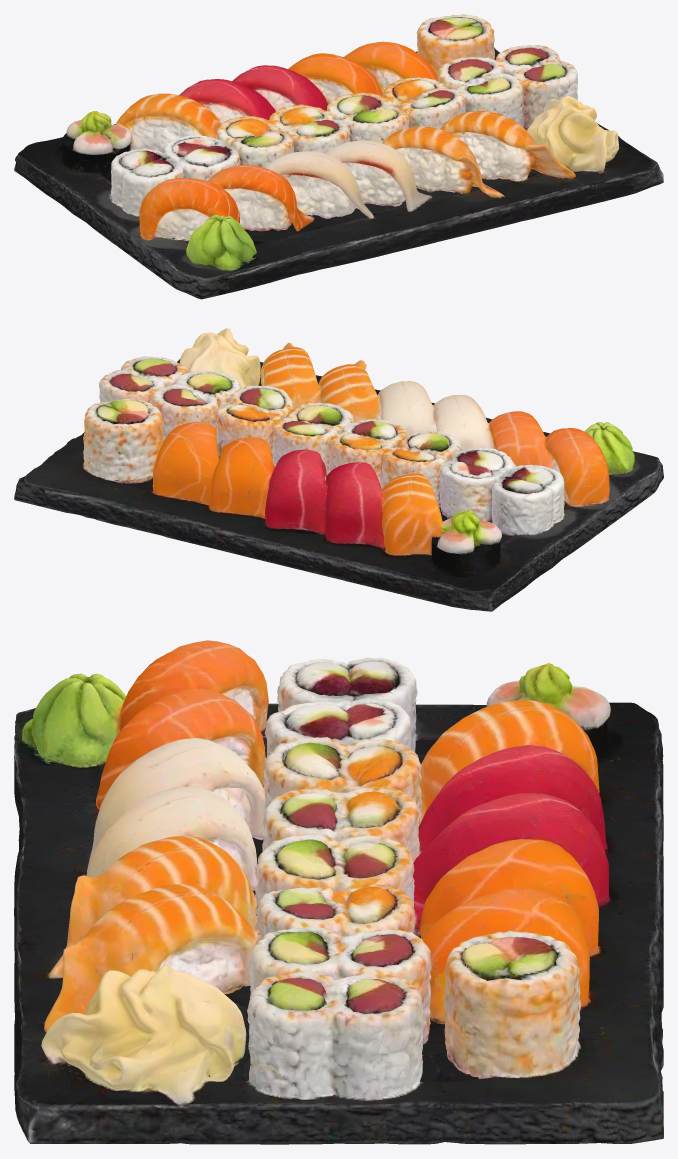
The model's file is sushi-mobile.glb.
3 renders of one model, top to bottom at view 1: azimuth 30°, elevation 25°; view 2: azimuth 150°, elevation 25°; view 3: azimuth 270°, elevation 25°, orthographic. The views are drawn at different scales.
Visible parts, largest first — view 1: Mesh_0.001; view 2: Mesh_0.001; view 3: Mesh_0.001.
Part boxes in pixels (x1,y1,x2,y2): Mesh_0.001: [14, 14, 663, 299]; Mesh_0.001: [14, 328, 663, 611]; Mesh_0.001: [14, 640, 663, 1144].
Bounding box in the file's own units: 0.1994 × 0.03 × 0.1339.
1 material, 1 textured.
